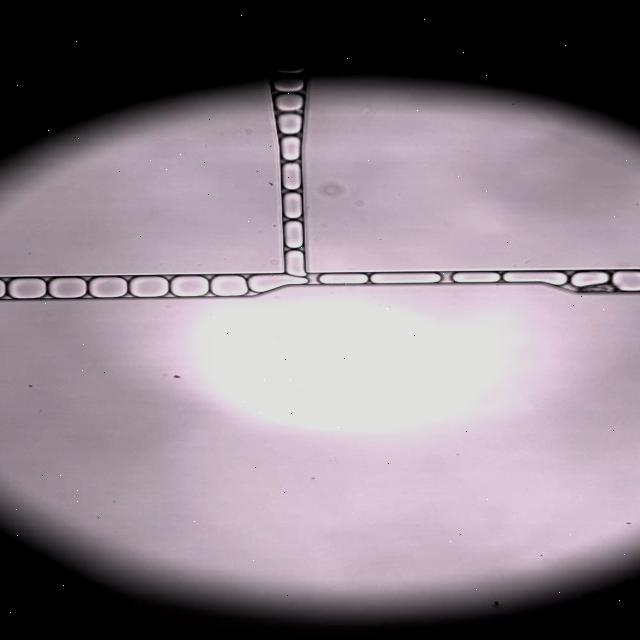L: (571, 272, 608, 287), (451, 272, 500, 283), (284, 221, 303, 248), (277, 114, 302, 134), (319, 274, 368, 284), (275, 94, 302, 112), (283, 163, 301, 190), (285, 251, 304, 276), (284, 193, 302, 219), (273, 77, 304, 92), (281, 137, 301, 160), (274, 64, 305, 74)
S: (248, 275, 307, 293), (504, 272, 567, 285), (170, 276, 209, 296), (129, 277, 168, 297), (8, 278, 47, 298), (89, 277, 127, 297), (371, 273, 440, 284), (211, 276, 248, 296), (49, 278, 86, 298), (613, 272, 640, 291)
